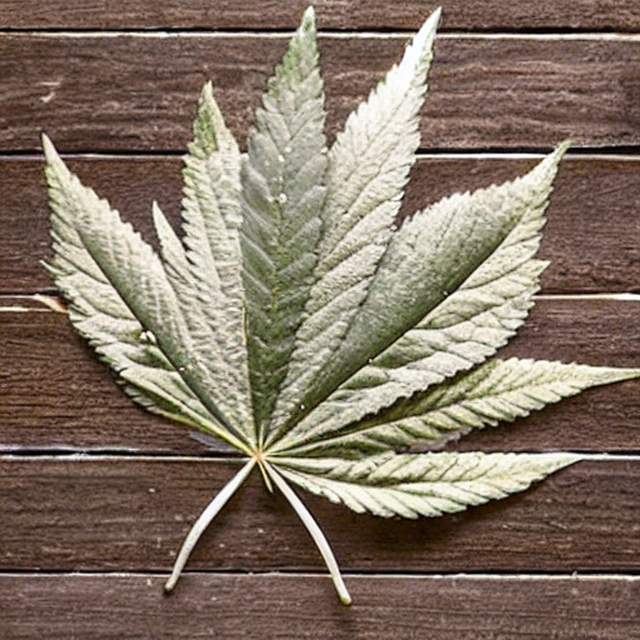Marijuana Leaf: (29, 1, 640, 606)
